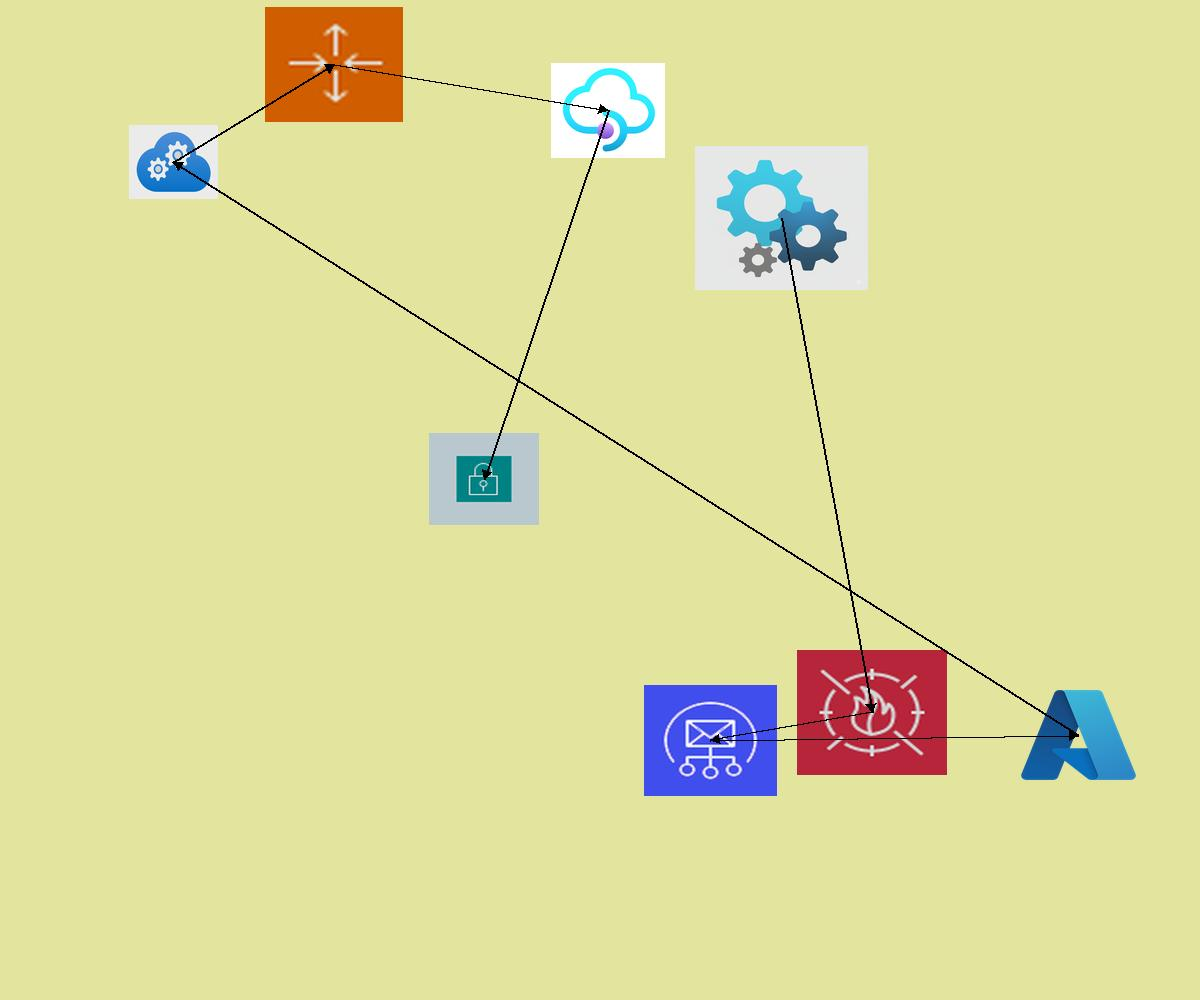AWS-Private-subnet: (429, 433, 539, 525)
AWS-Scaling-group: (265, 7, 403, 122)
AWS-Simple-Email-Service: (644, 685, 777, 796)
AWS-WAF: (797, 650, 947, 775)
Azure_api: (695, 146, 868, 290)
Azure_api_gateway: (551, 63, 665, 158)
Azure_cloud_services: (129, 125, 218, 199)
Azure_services: (1016, 683, 1141, 787)
